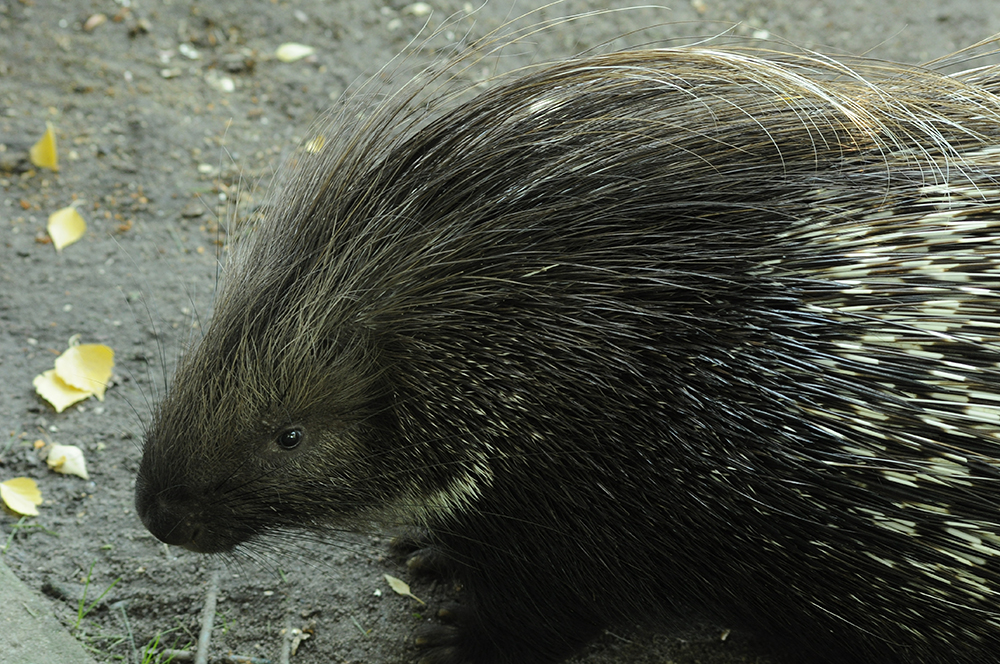porcupine: (108, 9, 1000, 653)
